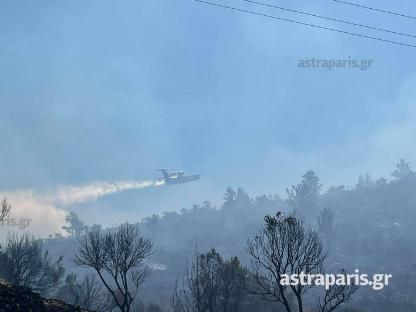B52: (153, 166, 205, 183)
